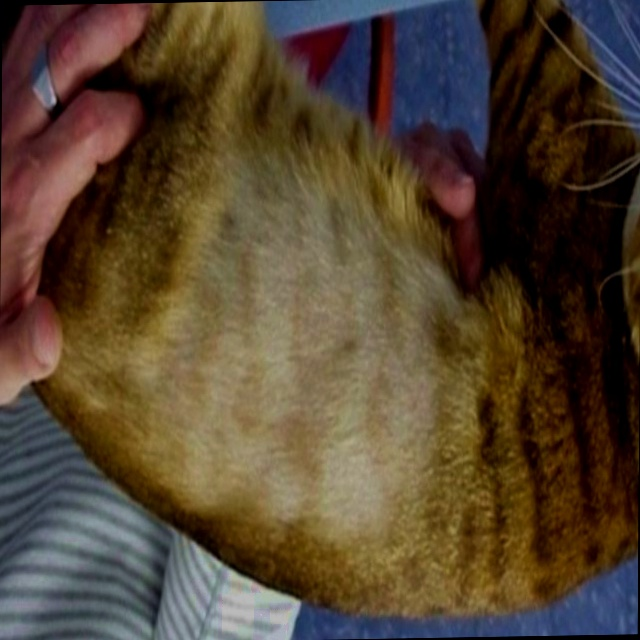hairloss: (201, 161, 451, 572)
